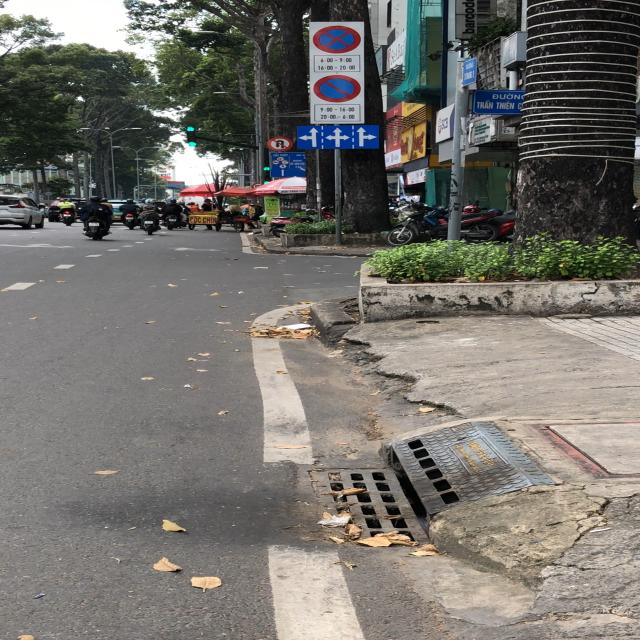Bien bao cam do xe: (312, 74, 364, 103)
Bien bao cam dung xe va do xe: (311, 23, 363, 54)
Bien bao cam quay dau xe: (266, 134, 297, 153)
